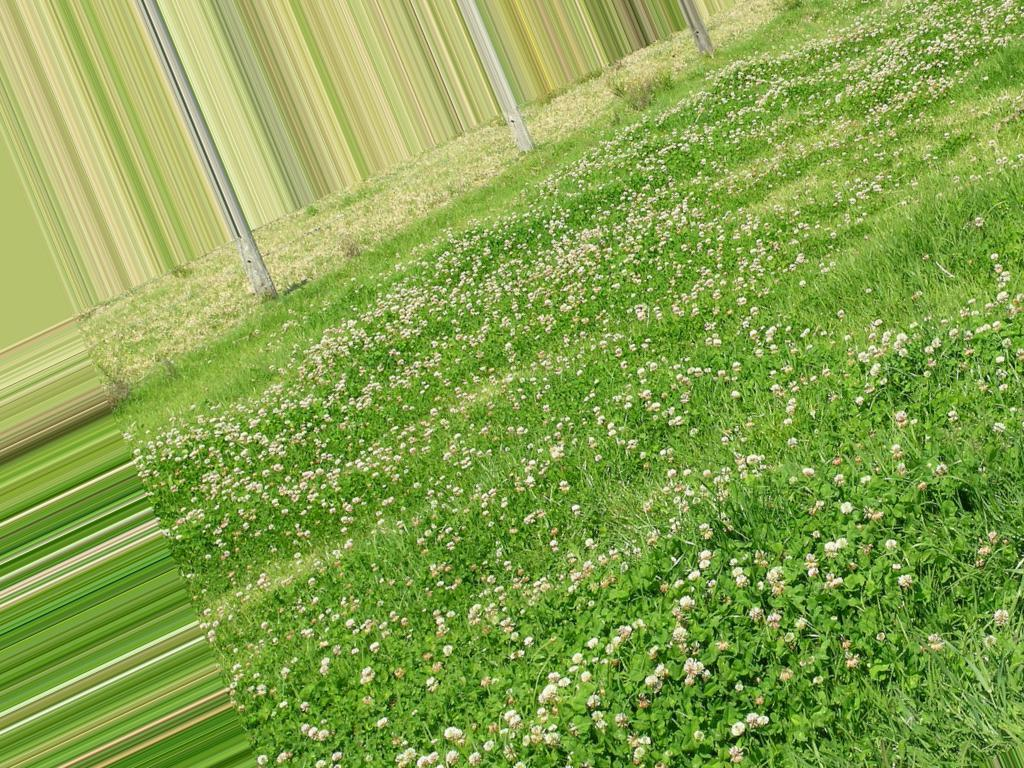patch: (298, 189, 418, 253), (138, 276, 234, 320), (421, 151, 497, 184), (538, 91, 578, 117)
